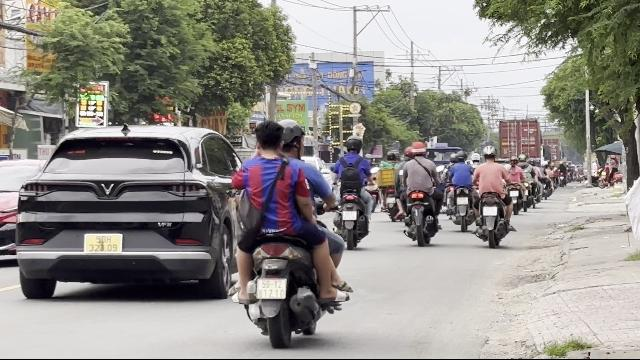helmet: (275, 119, 305, 158)
licenseplate: (257, 279, 287, 299)
motorcyclist: (225, 115, 352, 347)
nohelmet: (252, 120, 284, 156)
